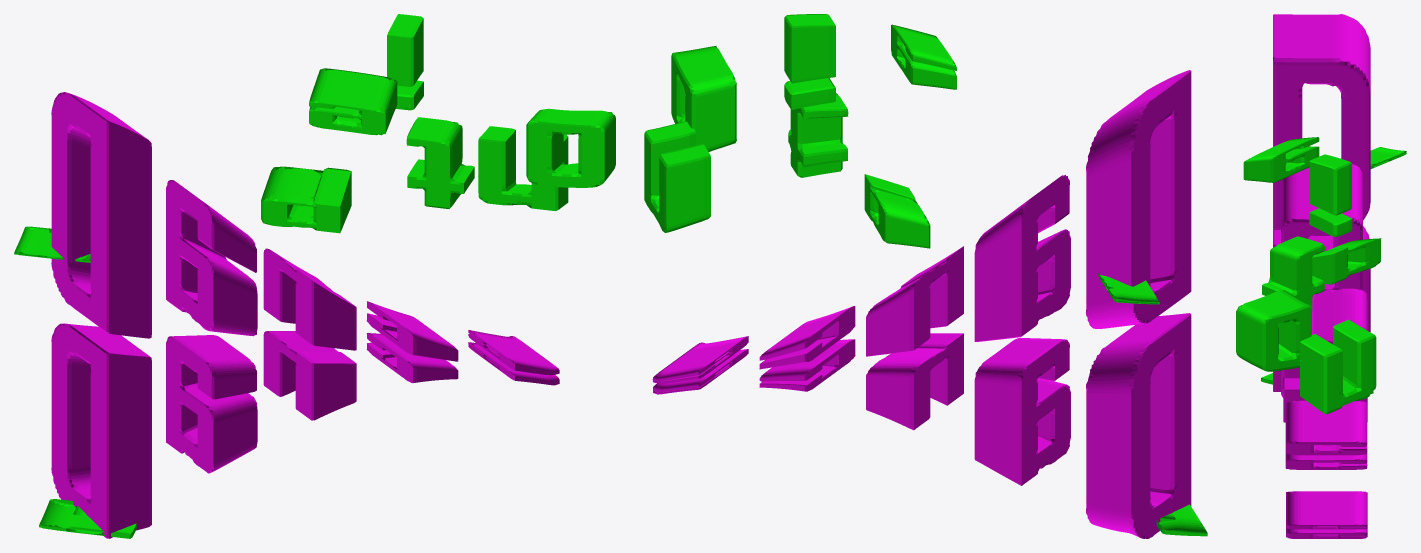
File: DDD_Title2.fbx
3 renders of one model, left to right at view 1: azimuth 30°, elevation 25°; view 2: azimuth 150°, elevation 25°; view 3: azimuth 270°, elevation 25°, orthographic. The views are drawn at different scales.
Visible parts, largest first — view 1: Text.001; view 2: Text.001; view 3: Text.001.
Boxes of the visible parts, x1,y1,x2,y2 form: Text.001: [14, 14, 615, 538]; Text.001: [644, 14, 1207, 538]; Text.001: [1236, 14, 1406, 538].
Bounding box in the file's own units: 1.77 × 1.3 × 0.5563.
